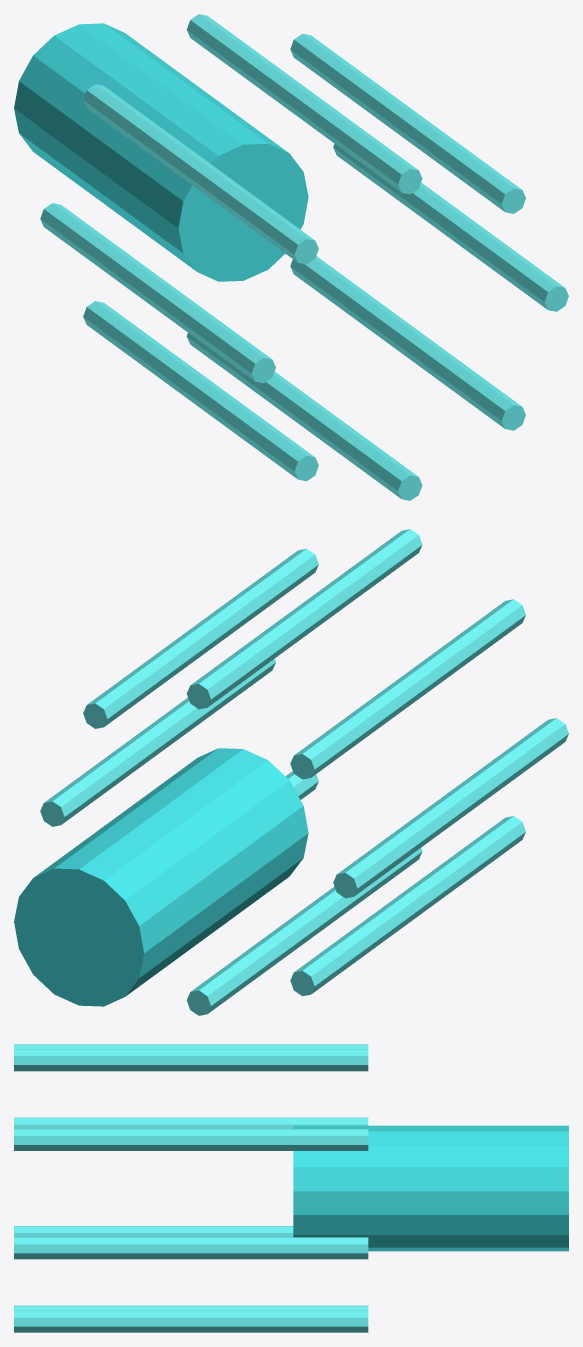
The model's file is irrigation-system.glb.
3 views of the same model, one above another, from view 1: azimuth 30°, elevation 25°; view 2: azimuth 150°, elevation 25°; view 3: azimuth 270°, elevation 25° (orthographic). The views are drawn at different scales.
Parts seen in each view (by area): view 1: world; view 2: world; view 3: world.
Boxes of the visible parts, x1,y1,x2,y2 form: world: (14,14,568,500); world: (14,529,568,1015); world: (14,1044,568,1332).
Bounding box in the file's own units: 0.39 × 0.39 × 0.705.
